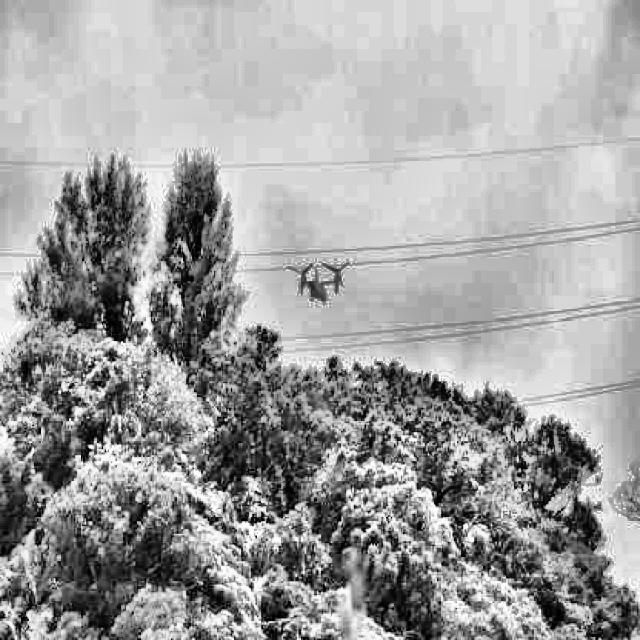V22: (287, 262, 350, 306)
